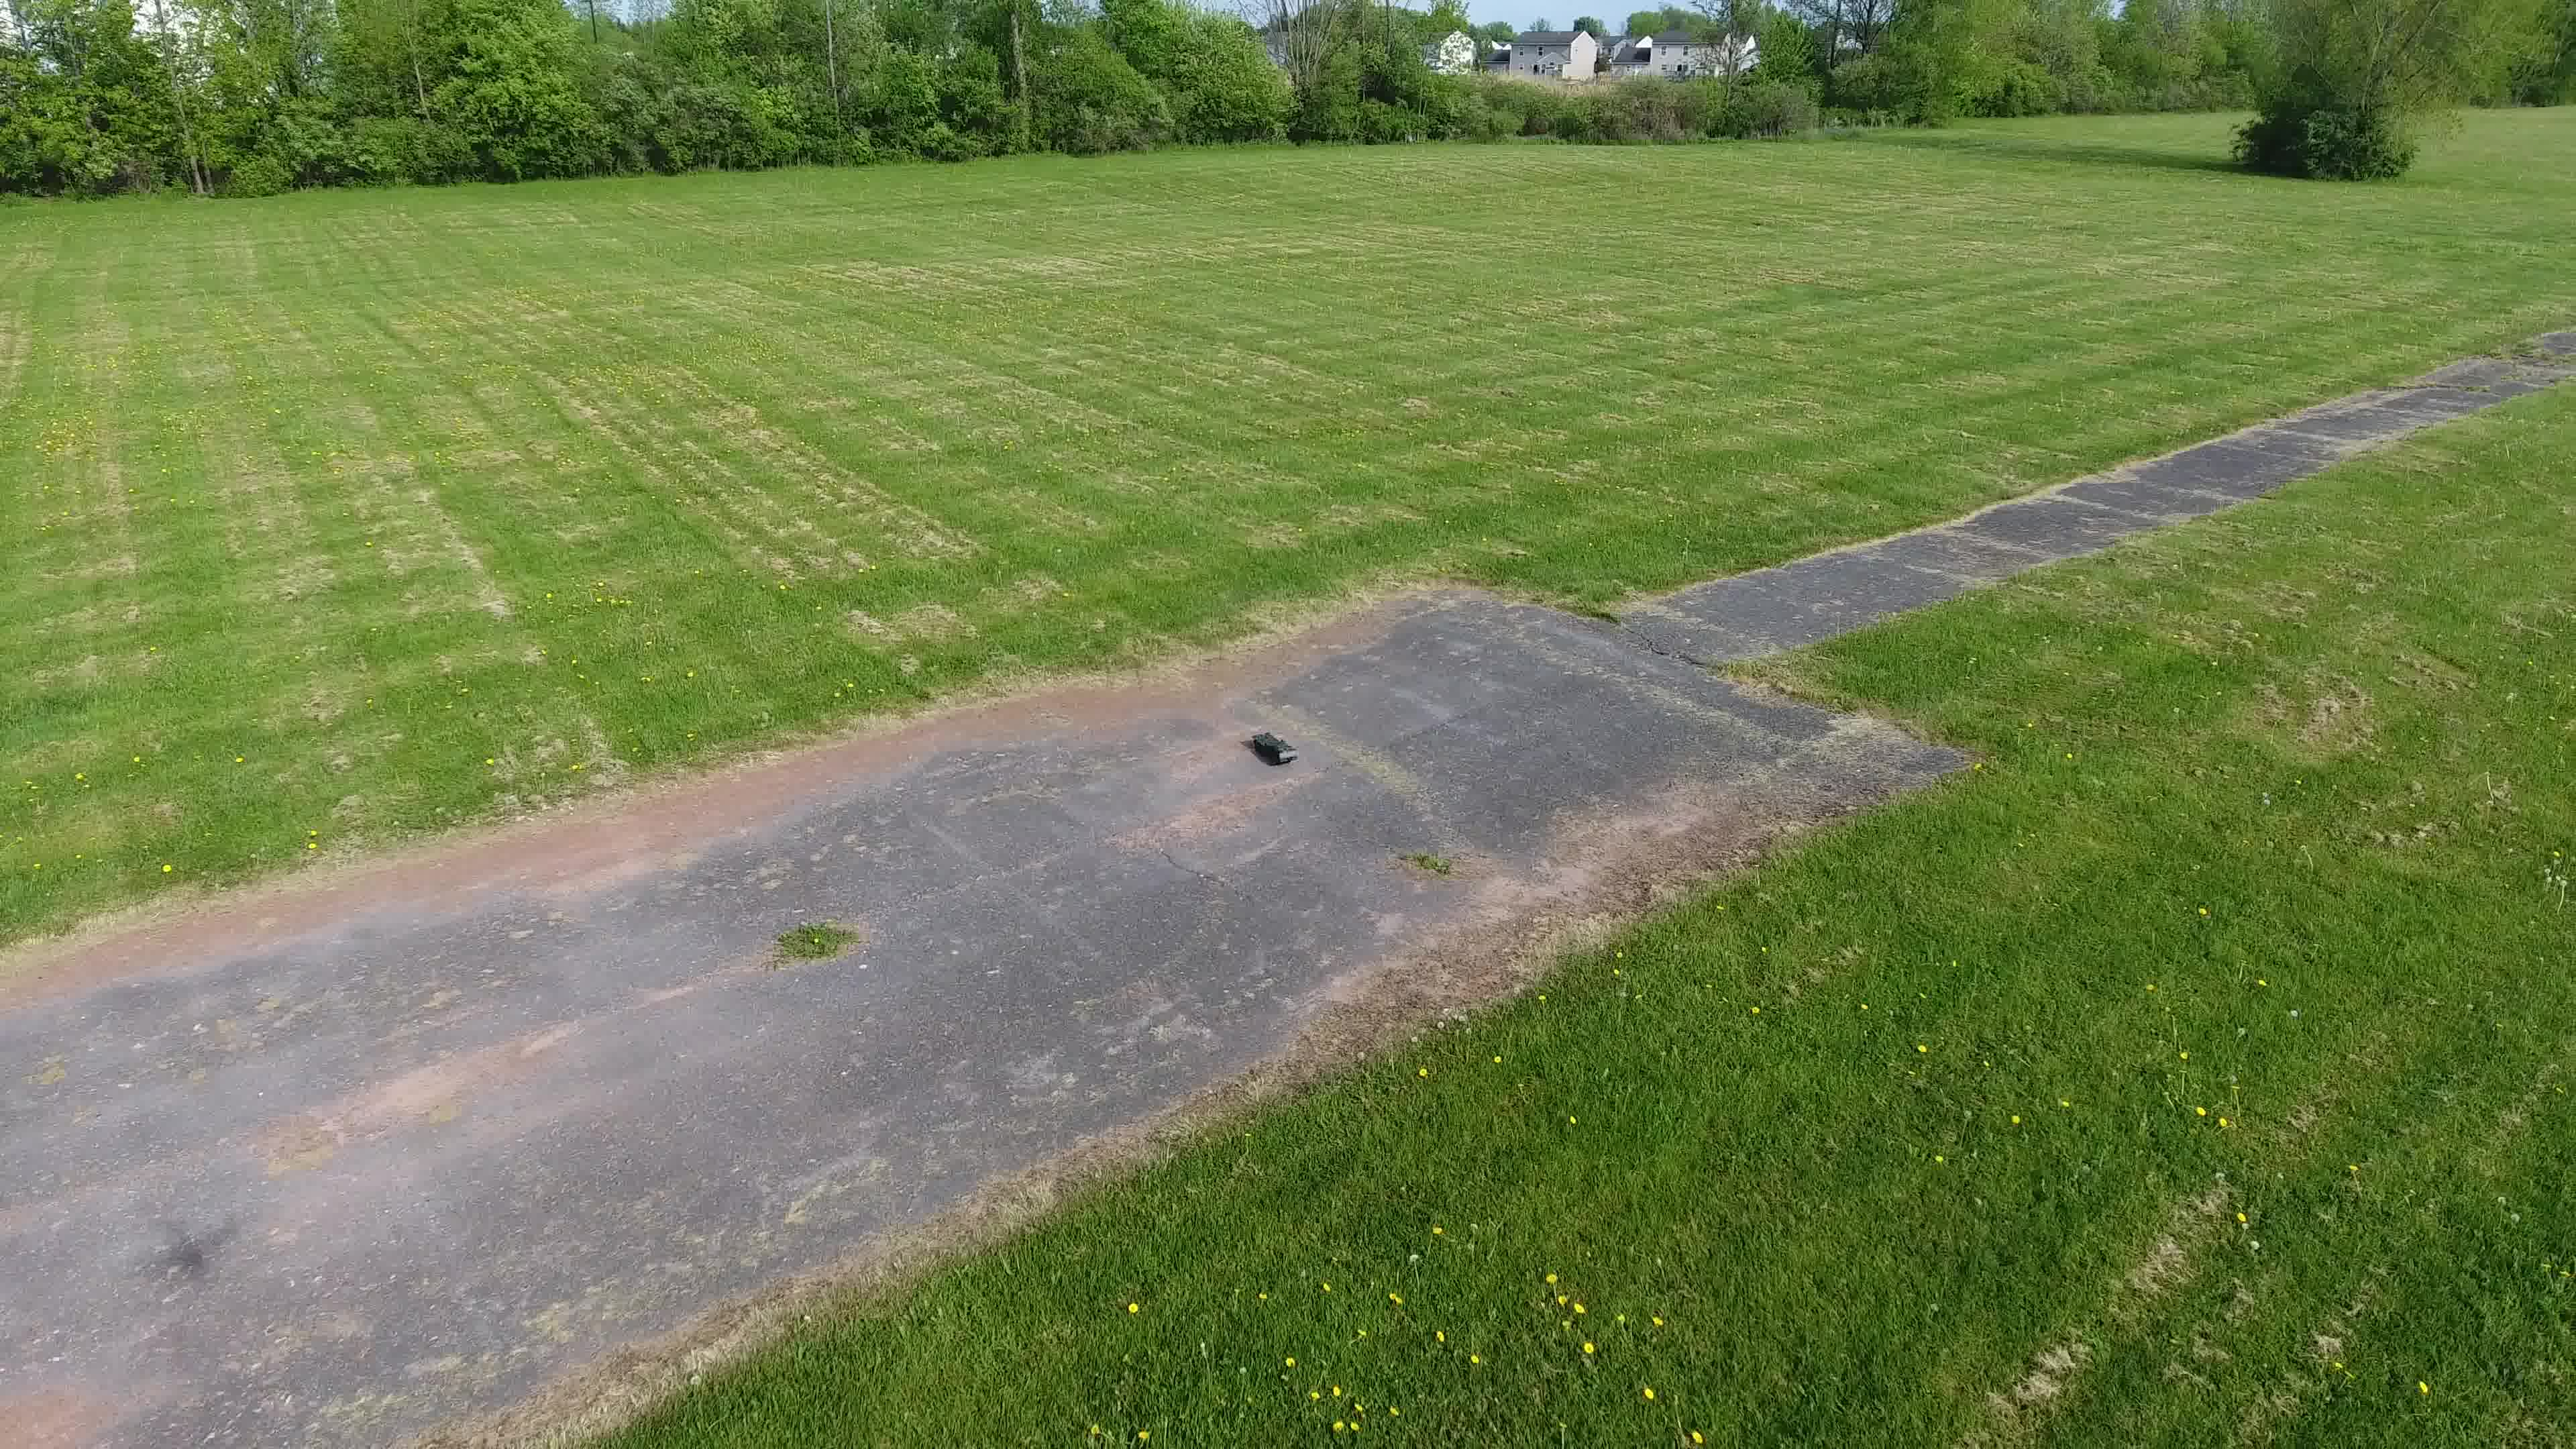transporter9_camo: (1249, 729, 1302, 766)
